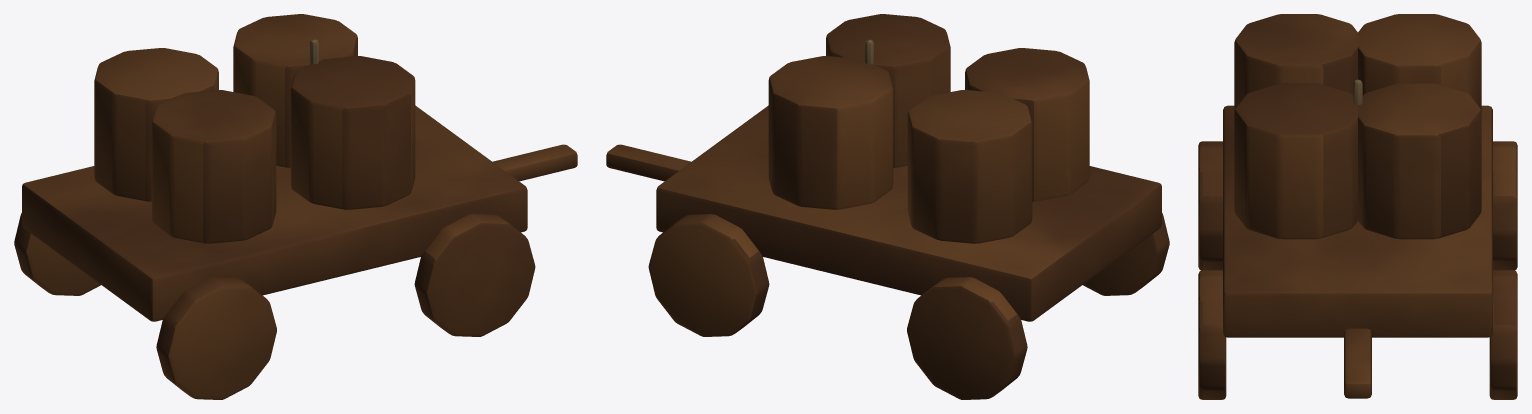
The model's file is unit_freetown_powder_cart.fbx.
3 views of the same model, side by side, from view 1: azimuth 30°, elevation 25°; view 2: azimuth 150°, elevation 25°; view 3: azimuth 270°, elevation 25° (orthographic). The views are drawn at different scales.
Visible parts, largest first — view 1: unit_freetown_powder_cart; view 2: unit_freetown_powder_cart; view 3: unit_freetown_powder_cart.
Part boxes in pixels (<box>): unit_freetown_powder_cart: <box>14,14,577,399</box>; unit_freetown_powder_cart: <box>606,14,1169,399</box>; unit_freetown_powder_cart: <box>1198,14,1517,399</box>.
Size of the model in its own units: 2.45 by 1.27 by 1.36.
